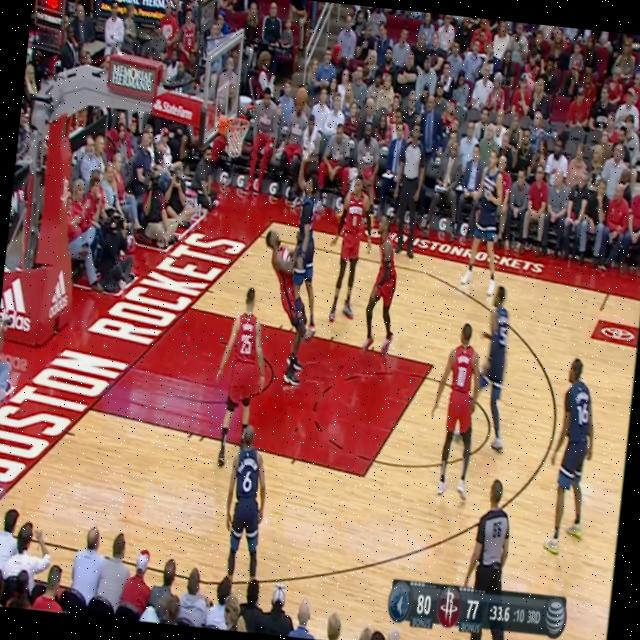Foul: (270, 211, 328, 334), (305, 326, 317, 331)
